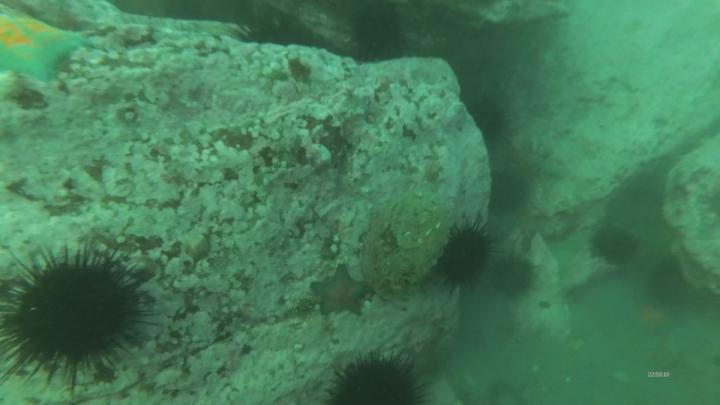echinus: (4, 261, 145, 376), (331, 358, 424, 405), (442, 223, 486, 287), (466, 99, 508, 149), (650, 256, 686, 306), (596, 224, 639, 265), (489, 169, 528, 213), (499, 255, 536, 300)
starfish: (4, 17, 84, 83), (310, 266, 369, 317), (635, 296, 679, 339)
